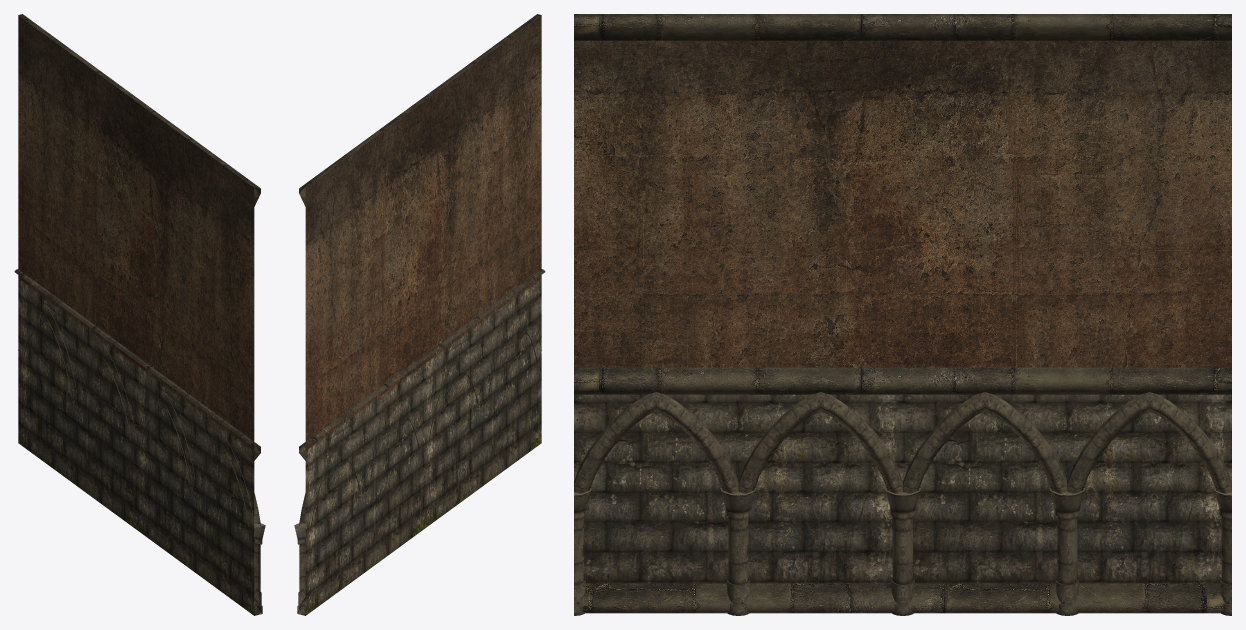
Rendered from NC_wall.DAE.
The picture shows the model from 3 angles, left to right: view 1: azimuth 30°, elevation 25°; view 2: azimuth 150°, elevation 25°; view 3: azimuth 270°, elevation 25°; orthographic projection. The views are drawn at different scales.
Visible parts, largest first — view 1: NC_wall, NC_wall_trim, NC_wall_details; view 2: NC_wall, NC_wall_trim, NC_wall_details; view 3: NC_wall, NC_wall_trim, NC_wall_details.
Boxes of the visible parts, box(x1,y1,x2,y2) form: NC_wall: box(18, 15, 254, 450); NC_wall_trim: box(18, 278, 254, 615); NC_wall_details: box(14, 14, 265, 615); NC_wall: box(305, 15, 541, 450); NC_wall_trim: box(305, 278, 541, 615); NC_wall_details: box(294, 14, 545, 615); NC_wall: box(574, 40, 1231, 367); NC_wall_trim: box(574, 394, 1231, 583); NC_wall_details: box(574, 14, 1231, 615).
Bounding box in the file's own units: 0.1492 × 4 × 4.
